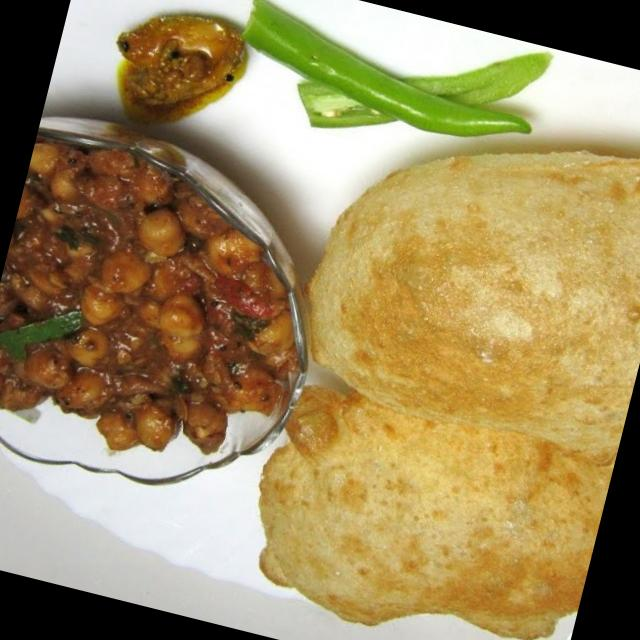Bhatura: (232, 77, 640, 640)
Chole: (0, 127, 339, 499)
